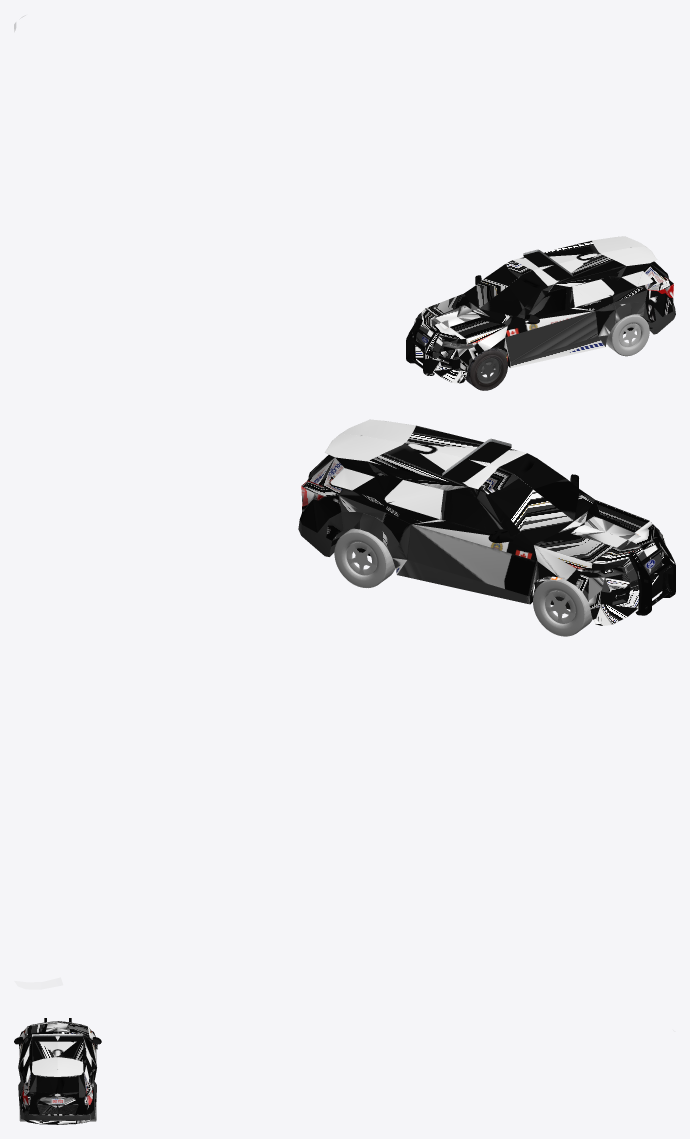
Rendered from FordIU.gltf.
3 renders of one model, top to bottom at view 1: azimuth 30°, elevation 25°; view 2: azimuth 150°, elevation 25°; view 3: azimuth 270°, elevation 25°, orthographic. The views are drawn at different scales.
Parts seen in each view (by area): view 1: Plane, Plane.004, Cylinder.003, Cylinder, Plane.005, Cube; view 2: Plane.004, Plane, Cylinder.004, Cylinder.005, Plane.005, Cube; view 3: Plane.004, Plane, Cube.
Boxes of the visible parts, <box> form: Plane: <box>424,246,675,383</box>; Plane.004: <box>414,236,645,363</box>; Cylinder.003: <box>606,314,649,356</box>; Cylinder: <box>465,348,507,390</box>; Plane.005: <box>406,318,439,375</box>; Cube: <box>523,249,572,280</box>; Plane.004: <box>298,434,650,625</box>; Plane: <box>340,419,666,598</box>; Cylinder.004: <box>334,528,395,588</box>; Cylinder.005: <box>533,579,592,636</box>; Plane.005: <box>628,535,675,615</box>; Cube: <box>442,438,511,482</box>; Plane.004: <box>57,1021,97,1124</box>; Plane: <box>18,1021,57,1124</box>; Cube: <box>32,1035,83,1042</box>.
Size of the model in its own units: 807 by 272 by 2600.
